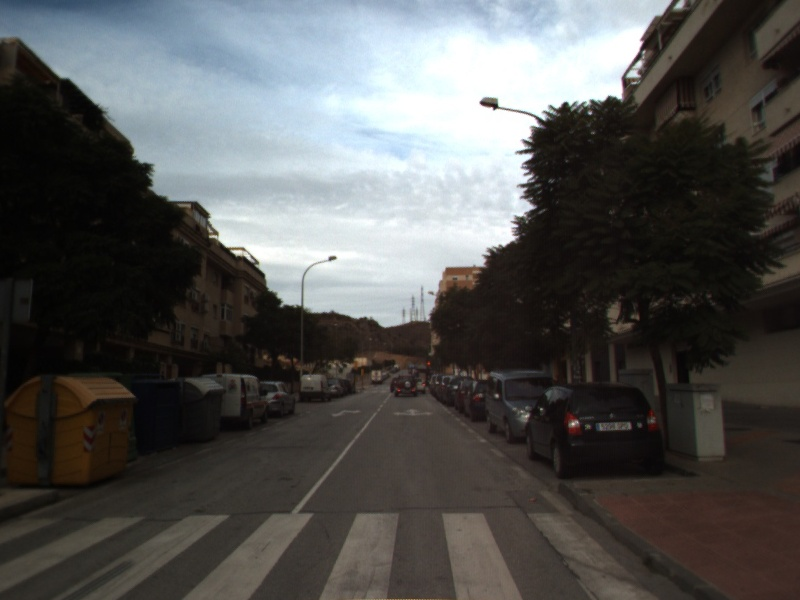STRAIGHT_LEFT_RIGHT: (391, 406, 435, 418)
